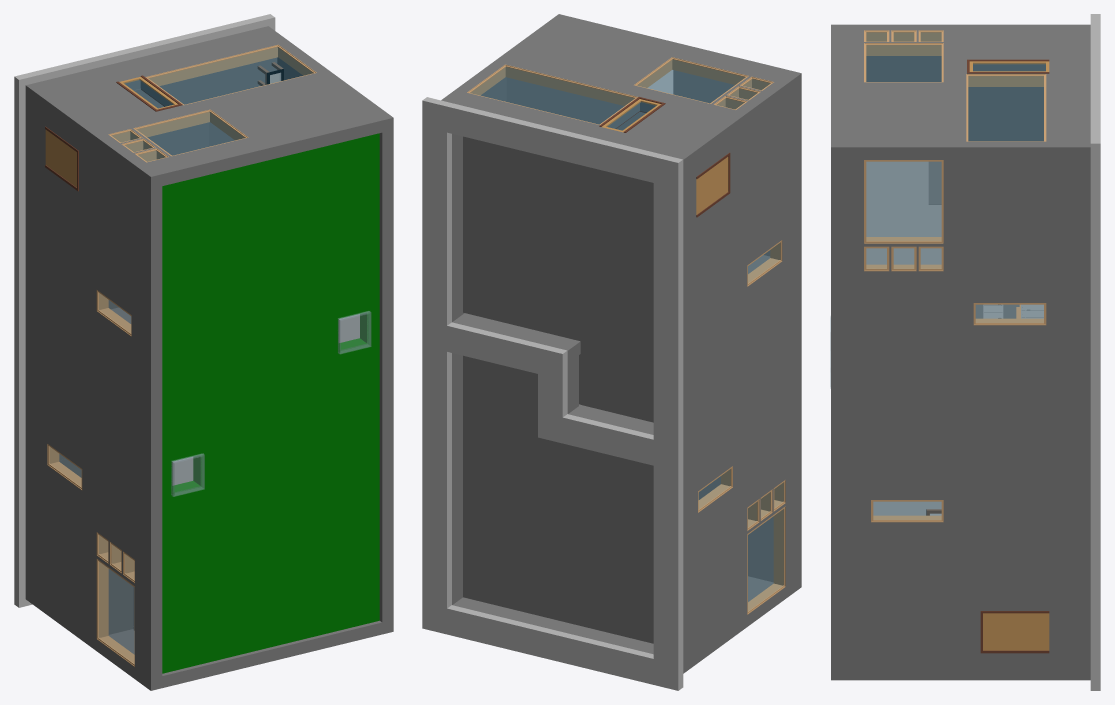
The model's file is orient_weld_duplex.obj.
3 views of the same model, side by side, from view 1: azimuth 30°, elevation 25°; view 2: azimuth 150°, elevation 25°; view 3: azimuth 270°, elevation 25° (orthographic). The views are drawn at different scales.
Visible parts, largest first — view 1: product-09a873b2-0e03-4eb2-b9f1-da270188dc92-body, product-9808fd7f-dc48-478e-9217-628e833d7af9-body, product-9808fd7f-dc48-478e-9217-628e833d5659-body, product-2da40d62-4698-436c-a2c3-95c49bb70d41-body, product-9808fd7f-dc48-478e-9217-628e833d4385-body, product-9808fd7f-dc48-478e-9217-628e833d568d-body, product-2da40d62-4698-436c-a2c3-95c49bb70cfa-body, product-9808fd7f-dc48-478e-9217-628e833d7df1-body, product-2e3c415a-d885-4964-a589-bb0941bdd177-body, product-2da40d62-4698-436c-a2c3-95c49bb70c3c-body, product-9808fd7f-dc48-478e-9217-628e833d4200-body, product-6b61ce71-1a7a-473c-8f87-4262e0bdb1c2-body (+14 smaller); view 2: product-9808fd7f-dc48-478e-9217-628e833d49bd-body, product-9808fd7f-dc48-478e-9217-628e833d410f-body, product-9808fd7f-dc48-478e-9217-628e833d7af9-body, product-9808fd7f-dc48-478e-9217-628e833d5659-body, product-2e3c415a-d885-4964-a589-bb0941bdd177-body, product-2e3c415a-d885-4964-a589-bb0941bdd167-body, product-9808fd7f-dc48-478e-9217-628e833d568d-body, product-2e3c415a-d885-4964-a589-bb0941bdd16f-body, product-9808fd7f-dc48-478e-9217-628e833d7df1-body, product-9808fd7f-dc48-478e-9217-628e833d4385-body, product-2e3c415a-d885-4964-a589-bb0941bdd17f-body, product-6b61ce71-1a7a-473c-8f87-4262e0bdb1c2-body (+21 smaller); view 3: product-9808fd7f-dc48-478e-9217-628e833d7d12-body, product-9808fd7f-dc48-478e-9217-628e833d56c9-body, product-9808fd7f-dc48-478e-9217-628e833d4257-body, product-2da40d62-4698-436c-a2c3-95c49bb70cfa-body, product-9808fd7f-dc48-478e-9217-628e833d7df1-body, product-9808fd7f-dc48-478e-9217-628e833d568d-body, product-9808fd7f-dc48-478e-9217-628e833d4938-body, product-6f010293-ddb7-4fe4-8ffd-c144d8444cde-body, product-2e3c415a-d885-4964-a589-bb0941bdd167-body, product-9808fd7f-dc48-478e-9217-628e833d4200-body, product-6b61ce71-1a7a-473c-8f87-4262e0bdb1c2-body, product-9808fd7f-dc48-478e-9217-628e833d7be7-body (+12 smaller).
Boxes of the visible parts, x1,y1,x2,y2 form: product-09a873b2-0e03-4eb2-b9f1-da270188dc92-body: [162, 133, 379, 673]; product-9808fd7f-dc48-478e-9217-628e833d7af9-body: [45, 112, 94, 637]; product-9808fd7f-dc48-478e-9217-628e833d5659-body: [95, 136, 141, 683]; product-2da40d62-4698-436c-a2c3-95c49bb70d41-body: [141, 182, 162, 678]; product-9808fd7f-dc48-478e-9217-628e833d4385-body: [25, 97, 45, 601]; product-9808fd7f-dc48-478e-9217-628e833d568d-body: [95, 77, 383, 169]; product-2da40d62-4698-436c-a2c3-95c49bb70cfa-body: [379, 130, 393, 634]; product-9808fd7f-dc48-478e-9217-628e833d7df1-body: [45, 40, 337, 147]; product-2e3c415a-d885-4964-a589-bb0941bdd177-body: [14, 70, 43, 581]; product-2da40d62-4698-436c-a2c3-95c49bb70c3c-body: [141, 110, 393, 188]; product-9808fd7f-dc48-478e-9217-628e833d4200-body: [25, 26, 287, 111]; product-6b61ce71-1a7a-473c-8f87-4262e0bdb1c2-body: [145, 44, 316, 105]; product-9808fd7f-dc48-478e-9217-628e833d49bd-body: [463, 355, 653, 643]; product-9808fd7f-dc48-478e-9217-628e833d410f-body: [463, 136, 653, 422]; product-9808fd7f-dc48-478e-9217-628e833d7af9-body: [696, 126, 745, 651]; product-9808fd7f-dc48-478e-9217-628e833d5659-body: [745, 80, 791, 627]; product-2e3c415a-d885-4964-a589-bb0941bdd177-body: [653, 153, 683, 664]; product-2e3c415a-d885-4964-a589-bb0941bdd167-body: [422, 97, 451, 634]; product-9808fd7f-dc48-478e-9217-628e833d568d-body: [503, 21, 791, 113]; product-2e3c415a-d885-4964-a589-bb0941bdd16f-body: [447, 605, 683, 690]; product-9808fd7f-dc48-478e-9217-628e833d7df1-body: [454, 55, 745, 161]; product-9808fd7f-dc48-478e-9217-628e833d4385-body: [683, 163, 696, 661]; product-2e3c415a-d885-4964-a589-bb0941bdd17f-body: [447, 103, 657, 182]; product-6b61ce71-1a7a-473c-8f87-4262e0bdb1c2-body: [467, 64, 637, 124]; product-9808fd7f-dc48-478e-9217-628e833d7d12-body: [947, 160, 1049, 680]; product-9808fd7f-dc48-478e-9217-628e833d56c9-body: [851, 147, 946, 680]; product-9808fd7f-dc48-478e-9217-628e833d4257-body: [1049, 160, 1090, 680]; product-2da40d62-4698-436c-a2c3-95c49bb70cfa-body: [831, 160, 851, 680]; product-9808fd7f-dc48-478e-9217-628e833d7df1-body: [947, 24, 1049, 159]; product-9808fd7f-dc48-478e-9217-628e833d568d-body: [851, 24, 946, 147]; product-9808fd7f-dc48-478e-9217-628e833d4938-body: [866, 161, 941, 515]; product-6f010293-ddb7-4fe4-8ffd-c144d8444cde-body: [864, 160, 943, 243]; product-2e3c415a-d885-4964-a589-bb0941bdd167-body: [1090, 131, 1100, 690]; product-9808fd7f-dc48-478e-9217-628e833d4200-body: [1049, 24, 1090, 159]; product-6b61ce71-1a7a-473c-8f87-4262e0bdb1c2-body: [966, 74, 1046, 141]; product-9808fd7f-dc48-478e-9217-628e833d7be7-body: [968, 87, 1043, 141].
Size of the model in its own units: 9.28 by 18.28 by 8.18.
